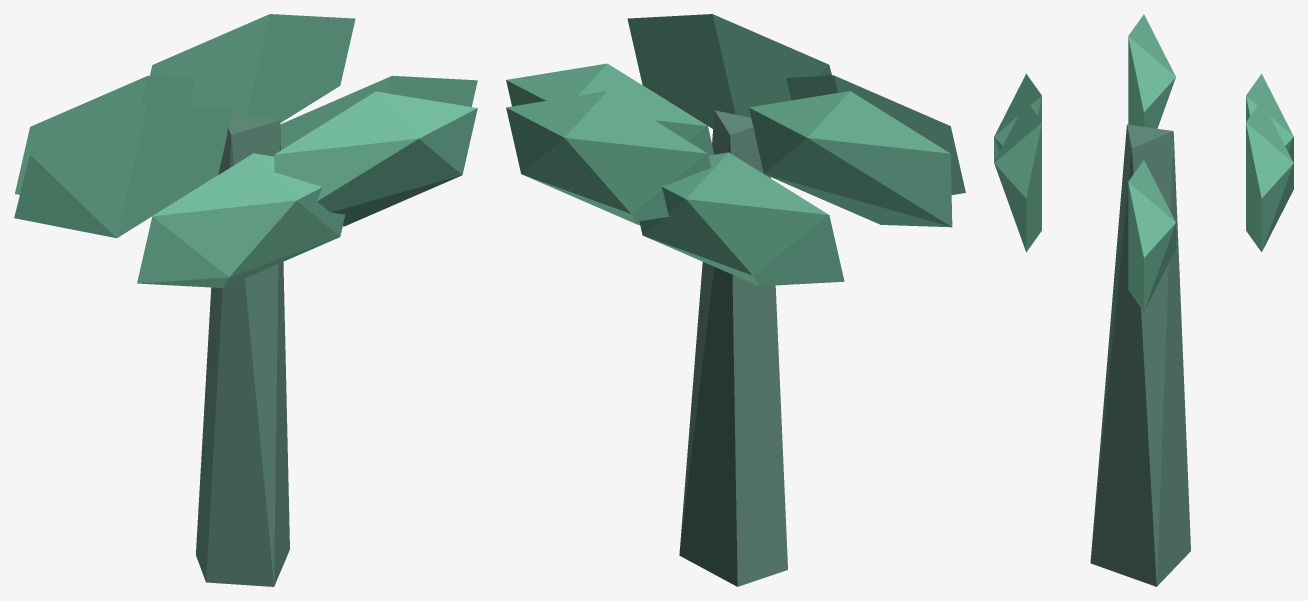
File: Plant_03_LOD1.fbx
3 views of the same model, side by side, from view 1: azimuth 30°, elevation 25°; view 2: azimuth 150°, elevation 25°; view 3: azimuth 270°, elevation 25° (orthographic). The views are drawn at different scales.
Visible parts, largest first — view 1: Plant_03_LOD1; view 2: Plant_03_LOD1; view 3: Plant_03_LOD1.
Boxes of the visible parts, <box> form: Plant_03_LOD1: <box>14,14,477,586</box>; Plant_03_LOD1: <box>506,14,965,586</box>; Plant_03_LOD1: <box>994,14,1293,586</box>.
Bounding box in the file's own units: 269 × 279 × 159.
